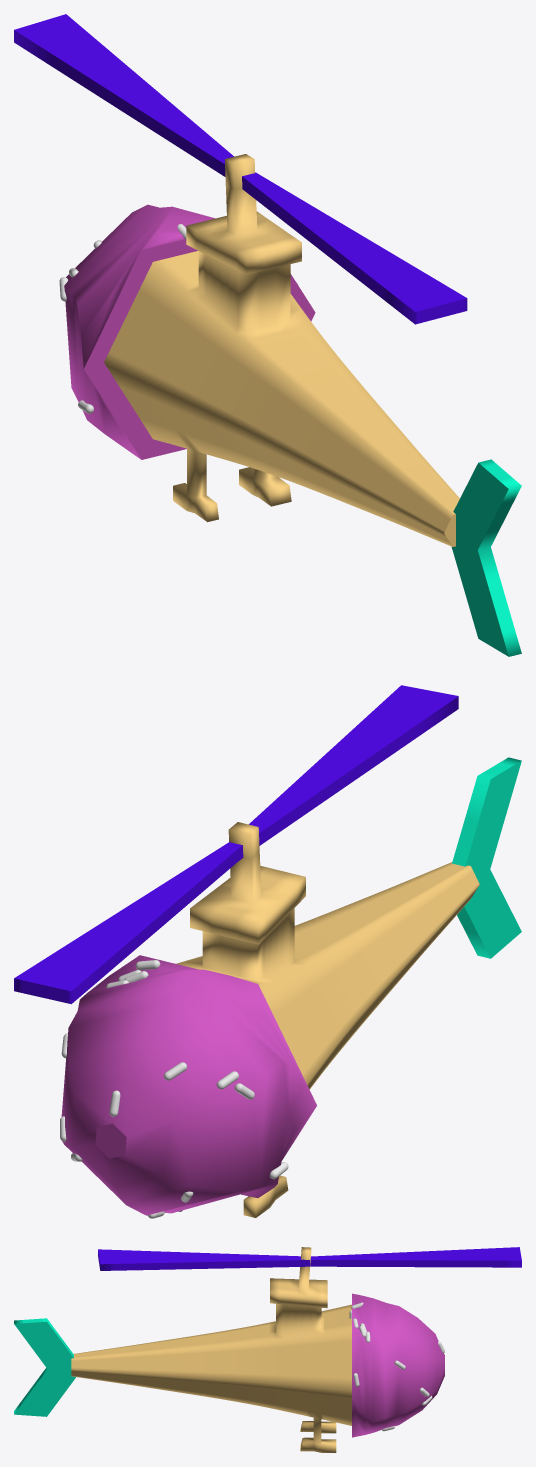
Rendered from icecream.fbx.
The picture shows the model from 3 angles, top to bottom: view 1: azimuth 30°, elevation 25°; view 2: azimuth 150°, elevation 25°; view 3: azimuth 270°, elevation 25°; orthographic projection. The views are drawn at different scales.
Visible parts, largest first — view 1: 放样_1, 放样_2, 封顶_1, 放样_4, 放样_3; view 2: 放样_2, 放样_1, 封顶_1, 放样_4, 放样_3, 克隆_1; view 3: 放样_1, 放样_2, 封顶_1, 放样_4, 放样_3, 克隆_1.
Boxes of the visible parts, bbox=[...] form: 放样_1: bbox=[104, 154, 459, 546]; 放样_2: bbox=[64, 204, 315, 459]; 封顶_1: bbox=[14, 14, 466, 311]; 放样_4: bbox=[451, 459, 521, 656]; 放样_3: bbox=[14, 30, 467, 324]; 放样_2: bbox=[61, 955, 316, 1215]; 放样_1: bbox=[176, 822, 479, 1217]; 封顶_1: bbox=[14, 685, 458, 991]; 放样_4: bbox=[452, 757, 521, 958]; 放样_3: bbox=[14, 696, 458, 1004]; 克隆_1: bbox=[60, 960, 288, 1218]; 放样_1: bbox=[71, 1247, 351, 1452]; 放样_2: bbox=[352, 1293, 444, 1437]; 封顶_1: bbox=[98, 1247, 521, 1264]; 放样_4: bbox=[14, 1318, 75, 1416]; 放样_3: bbox=[98, 1250, 521, 1270]; 克隆_1: bbox=[349, 1302, 444, 1431].
Size of the model in its own units: 310 by 450 by 1087.
